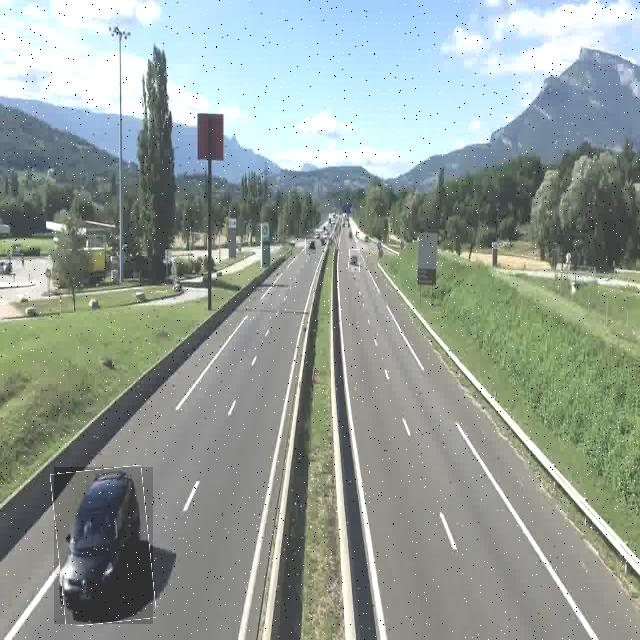Car: (54, 467, 153, 624), (349, 249, 360, 272), (305, 238, 316, 254)
